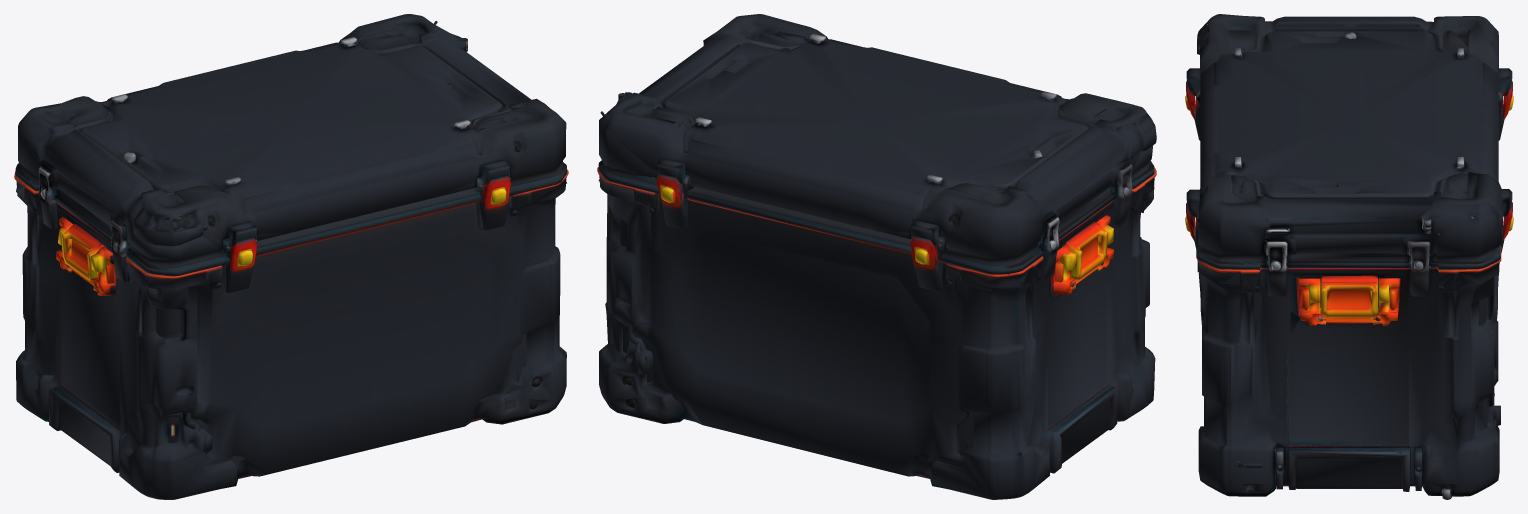
The picture shows the model from 3 angles, left to right: view 1: azimuth 30°, elevation 25°; view 2: azimuth 150°, elevation 25°; view 3: azimuth 270°, elevation 25°; orthographic projection. The views are drawn at different scales.
Parts seen in each view (by area): view 1: tripo_node_4393ea0a-10db-43bc-ad8d-2624a7fa1cc5; view 2: tripo_node_4393ea0a-10db-43bc-ad8d-2624a7fa1cc5; view 3: tripo_node_4393ea0a-10db-43bc-ad8d-2624a7fa1cc5.
Boxes of the visible parts, x1=… form: tripo_node_4393ea0a-10db-43bc-ad8d-2624a7fa1cc5: x1=14, y1=14, x2=568, y2=499; tripo_node_4393ea0a-10db-43bc-ad8d-2624a7fa1cc5: x1=597, y1=14, x2=1156, y2=499; tripo_node_4393ea0a-10db-43bc-ad8d-2624a7fa1cc5: x1=1185, y1=14, x2=1513, y2=499.
Bounding box in the file's own units: 0.9995 × 0.6606 × 0.6704.
Materials: 1 (1 with a texture image).
